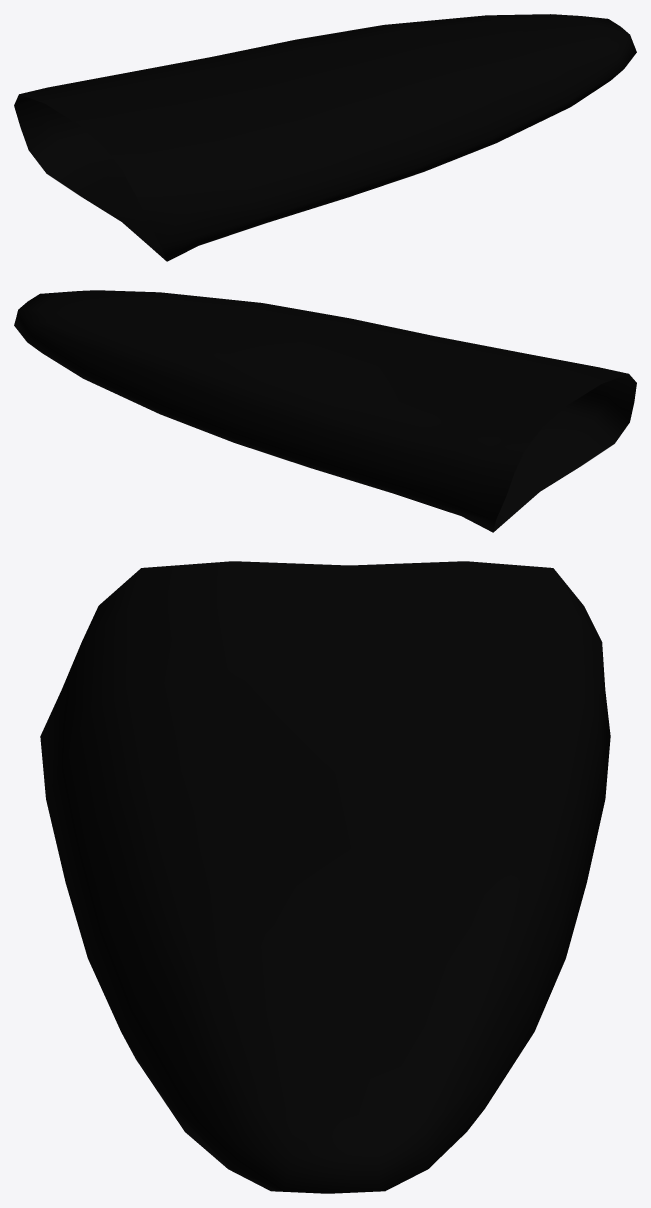
Rendered from alader.obj.
3 views of the same model, one above another, from view 1: azimuth 30°, elevation 25°; view 2: azimuth 150°, elevation 25°; view 3: azimuth 270°, elevation 25° (orthographic). The views are drawn at different scales.
Parts seen in each view (by area): view 1: Linux_Penguin__Torso_.001; view 2: Linux_Penguin__Torso_.001; view 3: Linux_Penguin__Torso_.001.
Part boxes in pixels (box(x1,y1,x2,y2)): Linux_Penguin__Torso_.001: box(14, 14, 636, 261); Linux_Penguin__Torso_.001: box(14, 290, 636, 532); Linux_Penguin__Torso_.001: box(40, 561, 610, 1193).
Bounding box in the file's own units: 14.3 × 2.5 × 6.39.
